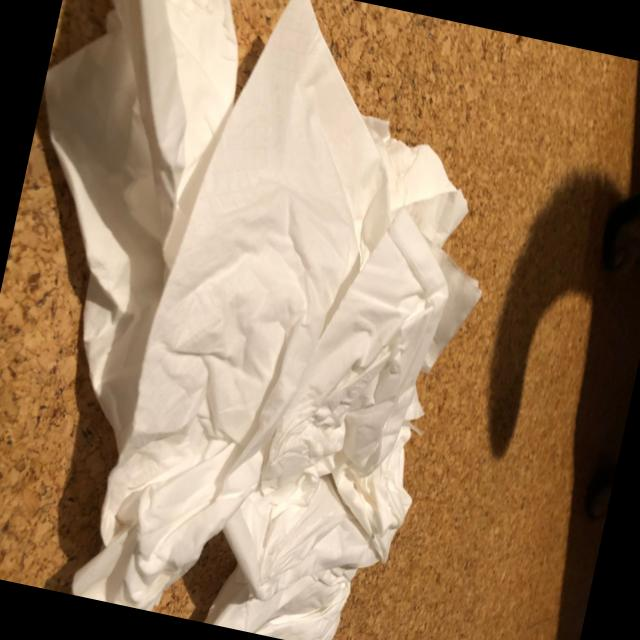organic waste: (67, 0, 544, 640), (0, 0, 259, 495)
